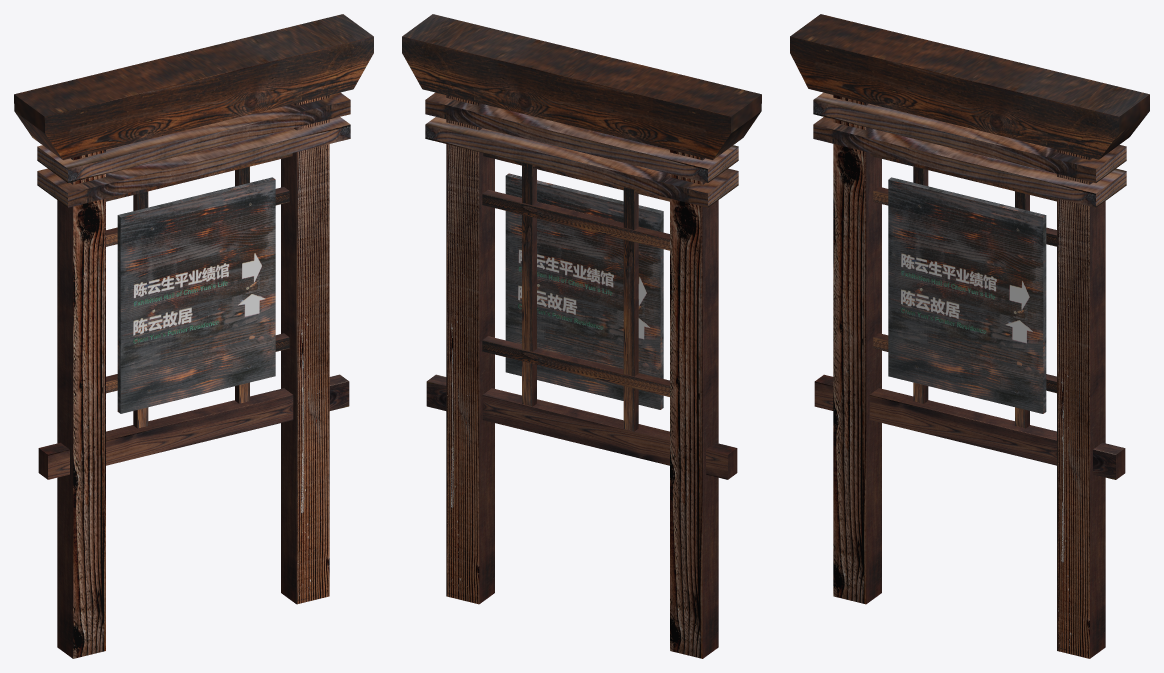
Rendered from Prop_RoadGuide08.FBX.
3 views of the same model, side by side, from view 1: azimuth 30°, elevation 25°; view 2: azimuth 150°, elevation 25°; view 3: azimuth 330°, elevation 25° (orthographic).
Parts seen in each view (by area): view 1: Prop_RoadGuide08; view 2: Prop_RoadGuide08; view 3: Prop_RoadGuide08.
Part boxes in pixels (left/top/right/bottom): Prop_RoadGuide08: left=14, top=14, right=373, bottom=658; Prop_RoadGuide08: left=402, top=14, right=761, bottom=658; Prop_RoadGuide08: left=790, top=14, right=1149, bottom=658.
Size of the model in its own units: 115 by 18.66 by 186.
